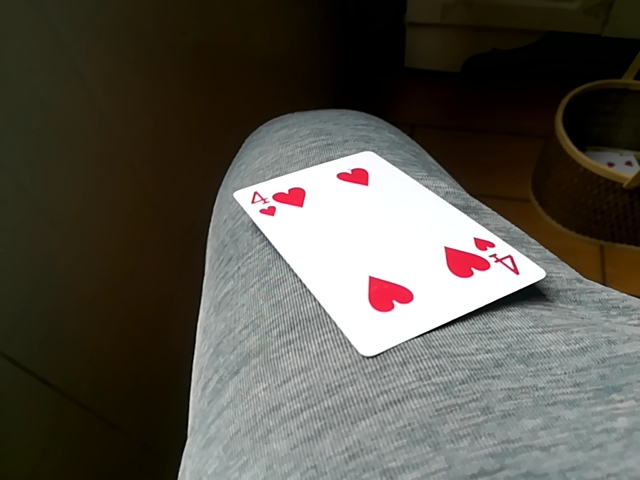hx 4: (230, 145, 546, 357)
